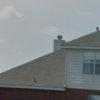Chimney: (48, 27, 72, 56)
